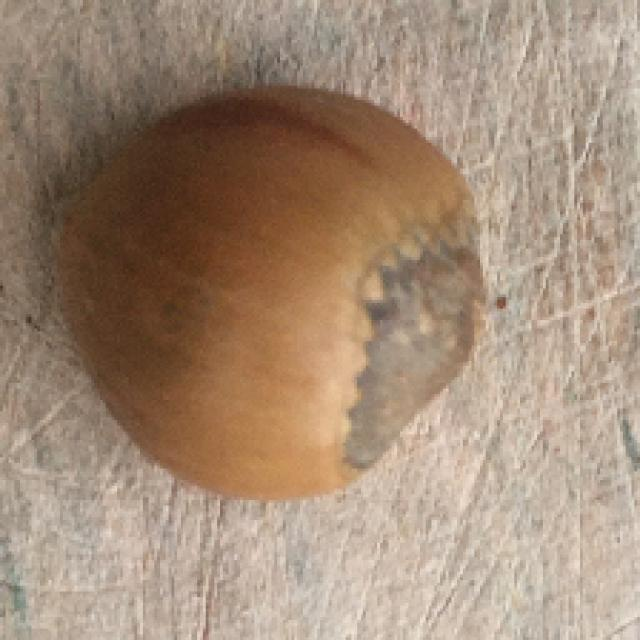DamagedHazelnut: (46, 85, 493, 504)
